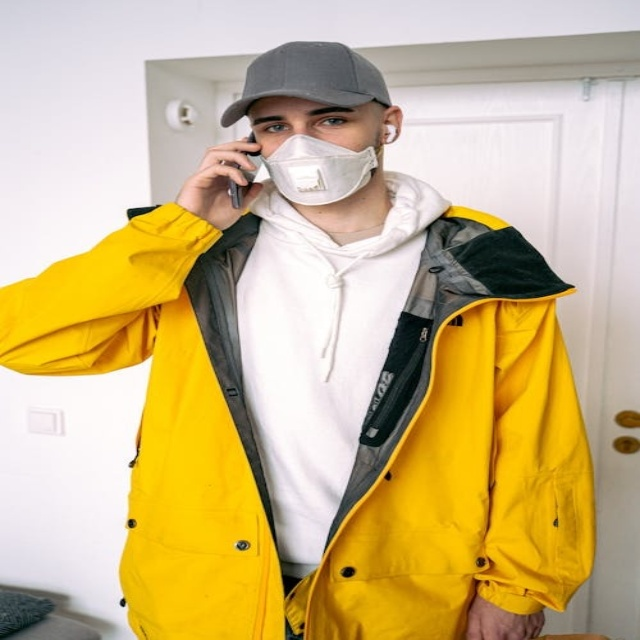Mascara: (251, 132, 380, 205)
Sin_gafas: (255, 107, 360, 137)
Sin_guantes: (183, 136, 261, 216), (461, 599, 548, 639)
